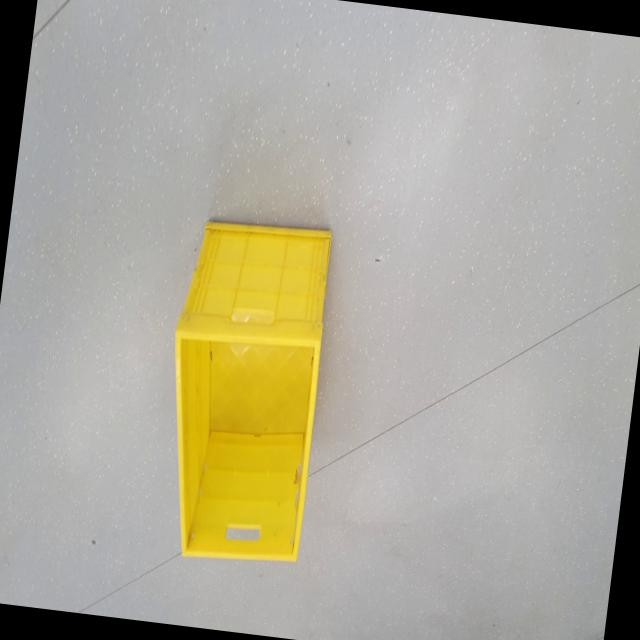box: (142, 202, 343, 574)
